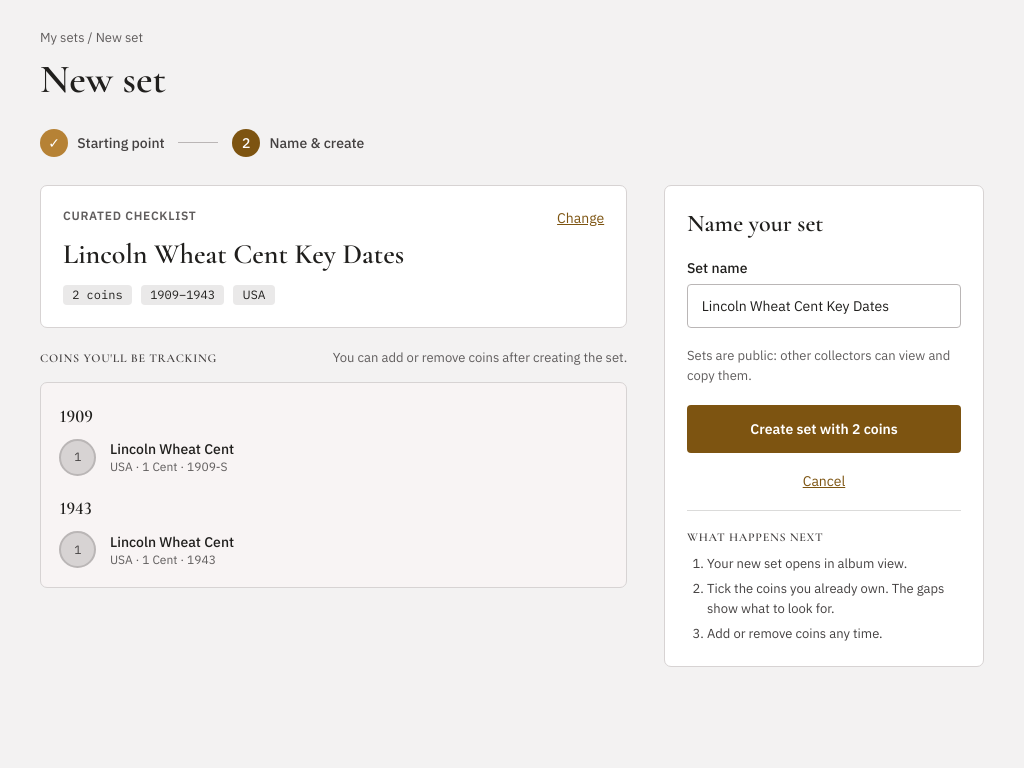
Test: NewSetPage › criterion 10: step 2 source card and Change › Change returns to step 1 with the same option selected (canonical)
Click the button with test id "set-new-change": point(581, 218) x1=557 y1=208 x2=604 y2=228
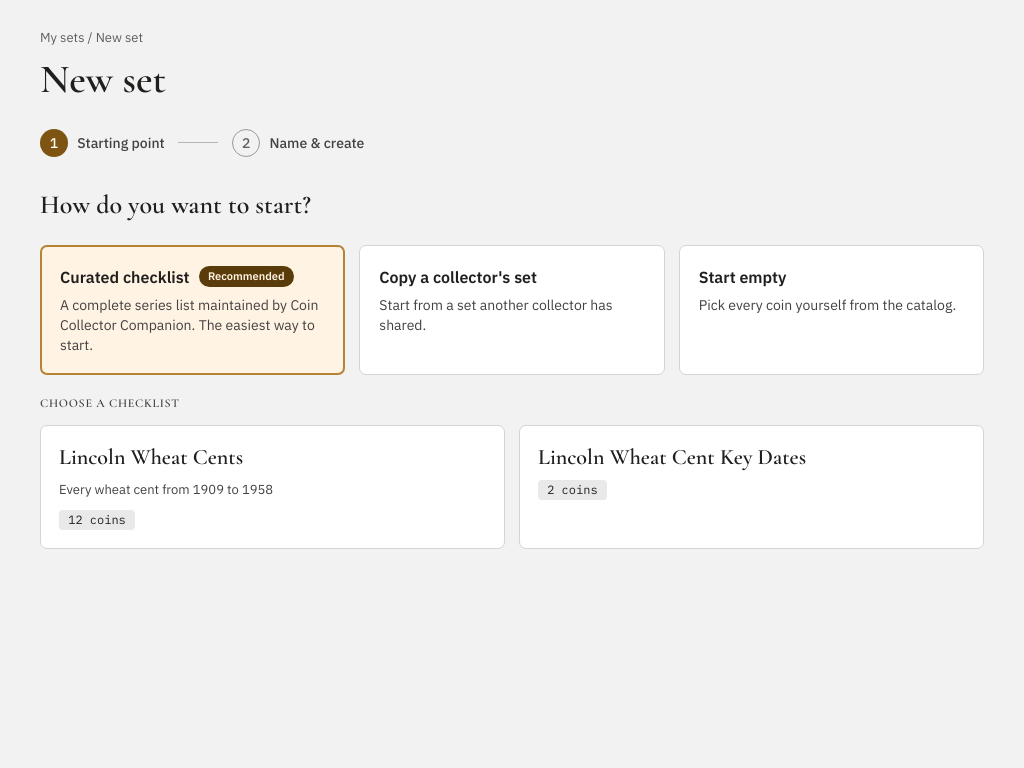
Now the element with test id "set-new-step-1" is shown, box x1=40 y1=184 x2=984 y2=549
Now the element with test id "set-new-step-2" is gone
